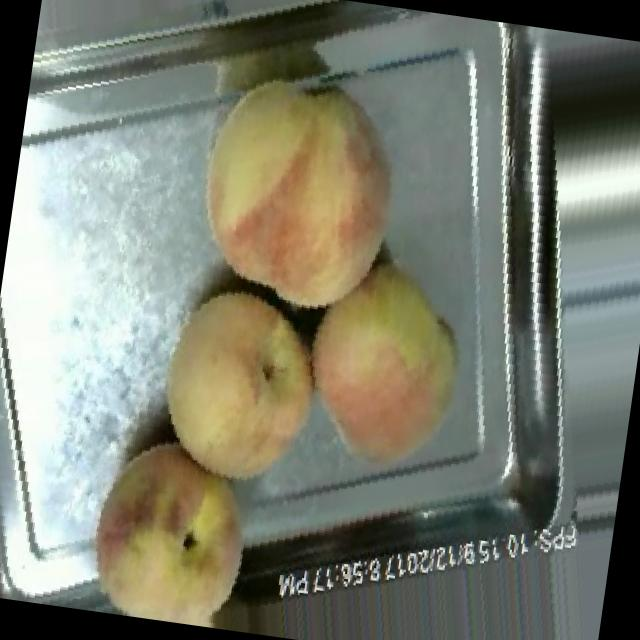Fruit: (150, 34, 452, 362), (120, 254, 356, 518), (280, 229, 505, 501), (54, 410, 295, 636)
